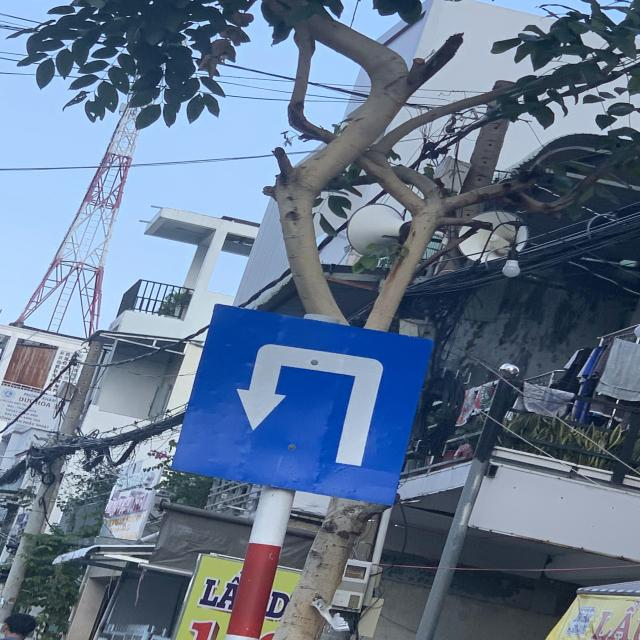Den_Giao_Thong: (168, 304, 430, 502)
